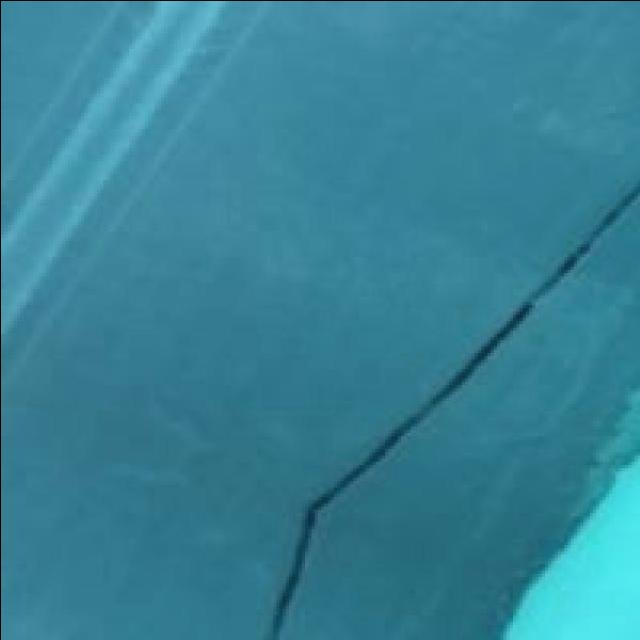SurfaceCrack: (238, 148, 640, 628)
